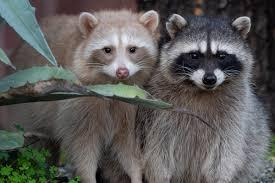raccoon: (0, 5, 164, 183), (139, 10, 275, 183)
